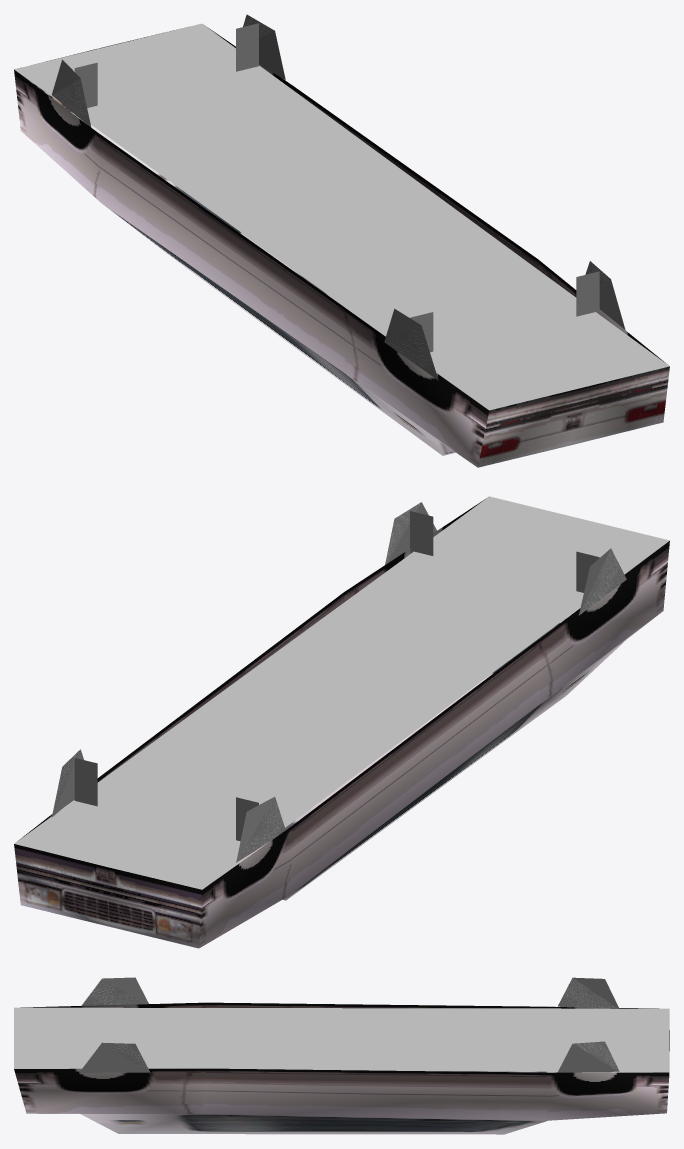
The model's file is VEGAS_model8_low.obj.
3 renders of one model, top to bottom at view 1: azimuth 30°, elevation 25°; view 2: azimuth 150°, elevation 25°; view 3: azimuth 270°, elevation 25°, orthographic. The views are drawn at different scales.
Visible parts, largest first — view 1: VEGAS_model8_low; view 2: VEGAS_model8_low; view 3: VEGAS_model8_low.
Part boxes in pixels (x1=…): VEGAS_model8_low: x1=14, y1=14, x2=669, y2=467; VEGAS_model8_low: x1=14, y1=496, x2=669, y2=948; VEGAS_model8_low: x1=14, y1=977, x2=669, y2=1134.
Size of the model in its own units: 314 by 230 by 1312.
